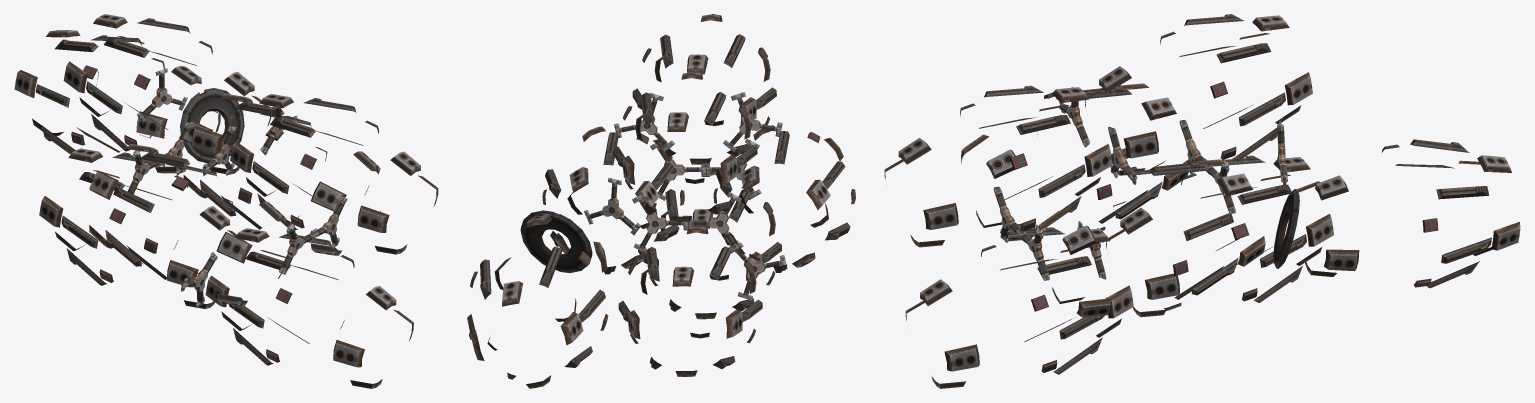
The model's file is prop_static_yao_container_02_01_0.glb.
3 renders of one model, left to right at view 1: azimuth 30°, elevation 25°; view 2: azimuth 150°, elevation 25°; view 3: azimuth 270°, elevation 25°, orthographic. The views are drawn at different scales.
Parts seen in each view (by area): view 1: yao_container_02_01_LOD0; view 2: yao_container_02_01_LOD0; view 3: yao_container_02_01_LOD0.
Part boxes in pixels (box(x1,y1,x2,y2)): yao_container_02_01_LOD0: box(14, 14, 438, 388); yao_container_02_01_LOD0: box(467, 14, 855, 388); yao_container_02_01_LOD0: box(884, 14, 1520, 388).
Size of what is drawn, in the model's own units: 3.06 by 3.17 by 5.87.
Materials: 1 (1 with a texture image).
